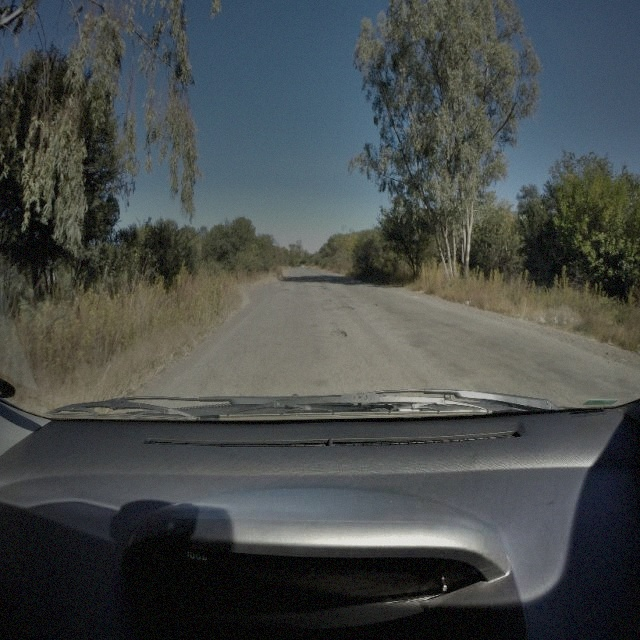pothole: (329, 328, 347, 338), (336, 303, 353, 311), (321, 294, 332, 303)
